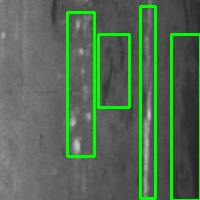inclusion: (171, 34, 200, 200), (98, 34, 129, 107)
scratches: (67, 12, 94, 156), (140, 6, 155, 198)
